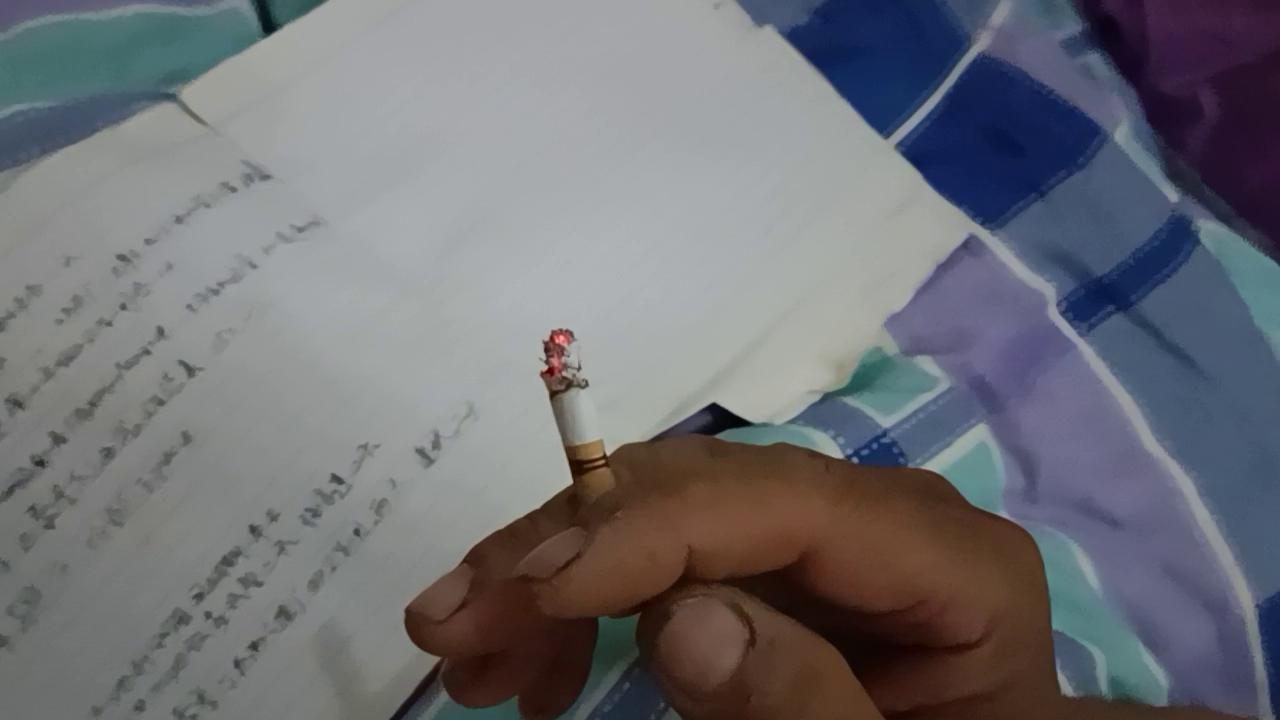smoke: (543, 326, 626, 543)
